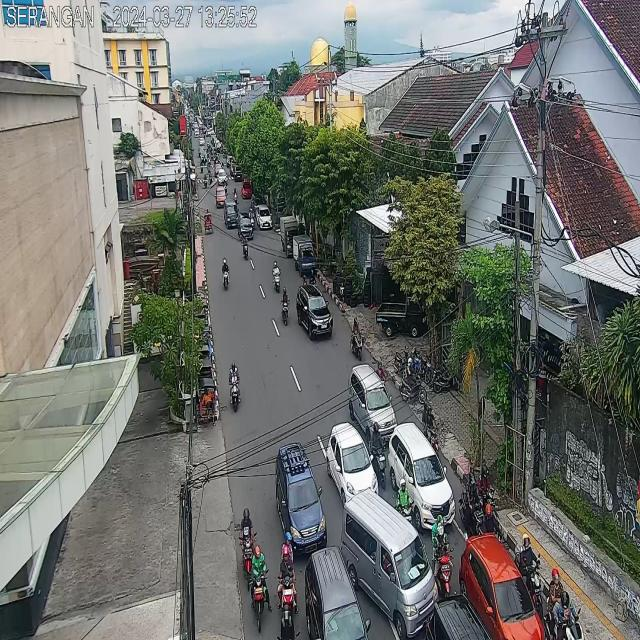car: (344, 489, 434, 639), (461, 527, 544, 640), (390, 421, 454, 530), (306, 546, 369, 640), (275, 444, 327, 554), (327, 421, 379, 511), (348, 361, 397, 442), (421, 592, 491, 640), (296, 284, 333, 341), (224, 199, 240, 229), (238, 212, 254, 240), (256, 205, 273, 229), (252, 193, 264, 216), (216, 186, 226, 209), (242, 182, 252, 199)
motorcycle: (545, 566, 585, 640), (512, 532, 543, 622), (429, 515, 454, 599), (277, 531, 298, 619), (250, 544, 270, 636), (459, 472, 485, 538), (237, 502, 256, 592), (475, 462, 500, 528), (368, 421, 388, 492), (422, 398, 442, 460), (477, 505, 502, 551), (395, 476, 414, 527), (276, 602, 298, 640), (228, 361, 242, 413), (350, 314, 364, 362), (375, 359, 387, 390), (281, 287, 290, 326), (272, 261, 282, 293), (222, 257, 230, 292), (241, 233, 249, 260), (309, 269, 318, 291), (249, 208, 255, 230), (233, 187, 238, 203)
truck: (294, 235, 316, 275), (280, 216, 300, 256)
